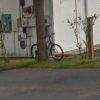Bicycle: (21, 32, 70, 68)
